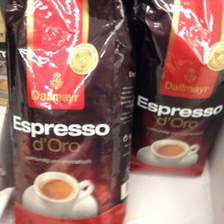coffee: (4, 1, 135, 224), (131, 1, 221, 177)
